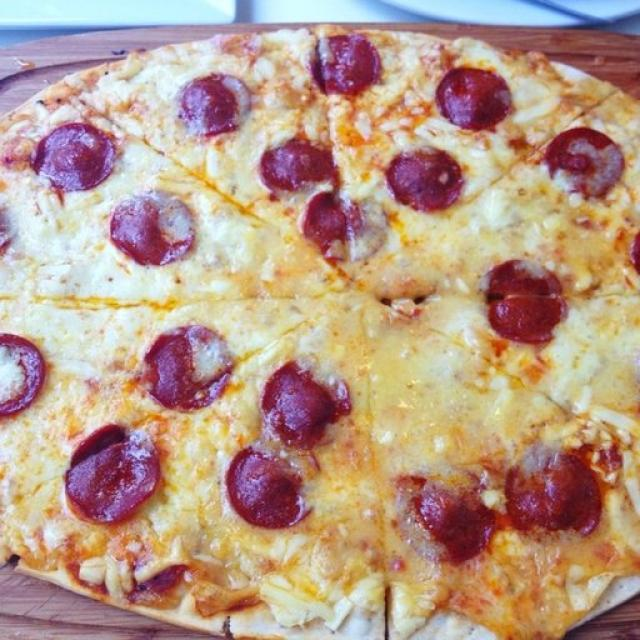Cheese: (340, 310, 476, 438), (498, 356, 622, 421), (19, 214, 110, 299), (216, 232, 292, 319), (68, 304, 118, 406), (407, 238, 472, 288), (484, 170, 534, 233)
Pepperoni: (68, 425, 158, 519), (142, 326, 238, 406), (403, 476, 492, 556), (510, 453, 599, 531), (225, 442, 305, 526), (486, 259, 566, 342), (297, 186, 383, 262), (267, 361, 339, 450), (114, 192, 194, 260), (556, 128, 621, 199), (34, 125, 108, 183), (441, 70, 512, 128), (313, 39, 381, 99), (392, 147, 461, 205), (179, 76, 245, 136), (0, 336, 50, 415), (263, 138, 336, 188)
Pizza: (0, 24, 640, 640)
